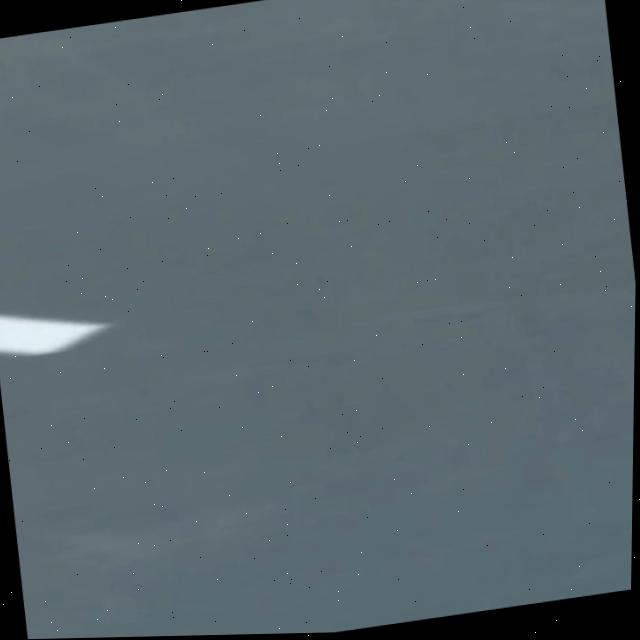center: (0, 312, 113, 354)
